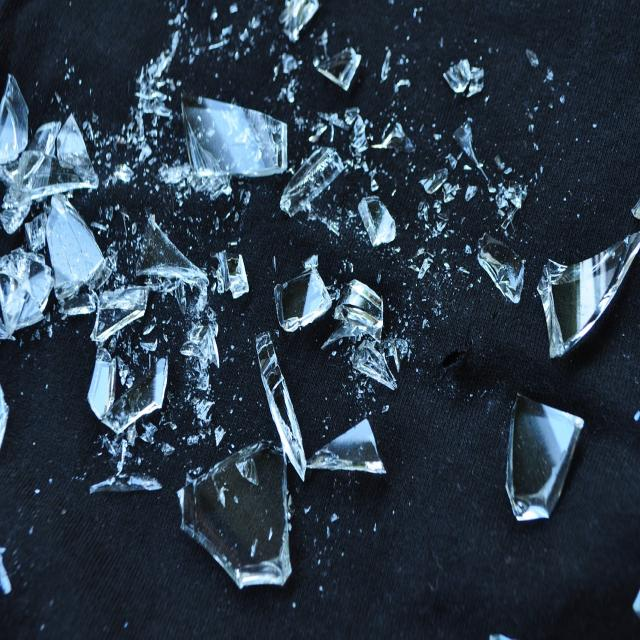PecahanKaca: (180, 330, 386, 588), (270, 3, 404, 391), (91, 216, 213, 494), (4, 72, 105, 340), (474, 214, 634, 360), (170, 82, 288, 184), (506, 389, 585, 523)
